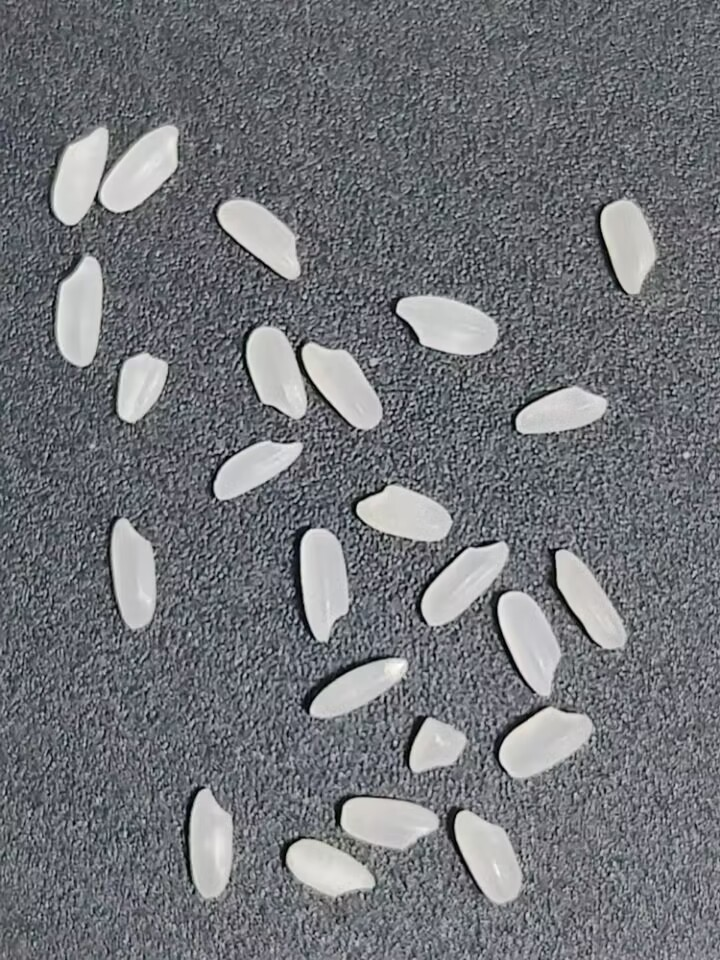broken: (108, 346, 173, 427), (405, 713, 469, 781)
rice: (411, 535, 517, 631), (495, 702, 607, 787), (92, 123, 188, 218), (550, 541, 630, 653), (491, 589, 567, 704), (299, 337, 385, 438), (591, 191, 667, 304), (292, 524, 358, 652), (211, 196, 307, 283), (450, 806, 529, 909), (346, 478, 458, 549), (392, 287, 503, 358), (39, 125, 112, 230), (107, 508, 163, 644), (305, 653, 412, 723), (236, 323, 310, 424), (210, 435, 308, 508), (49, 251, 108, 372), (336, 793, 447, 854), (184, 779, 239, 902), (280, 837, 383, 901), (509, 383, 610, 440)
